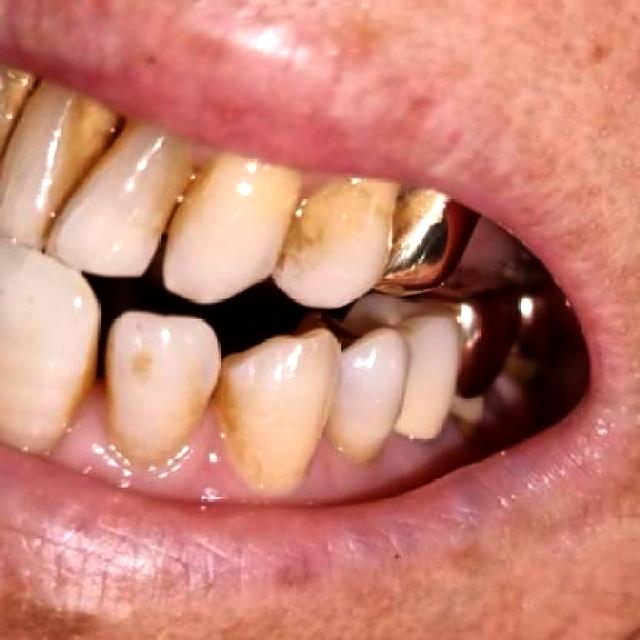Plaque: (433, 364, 571, 462), (82, 98, 120, 168)
